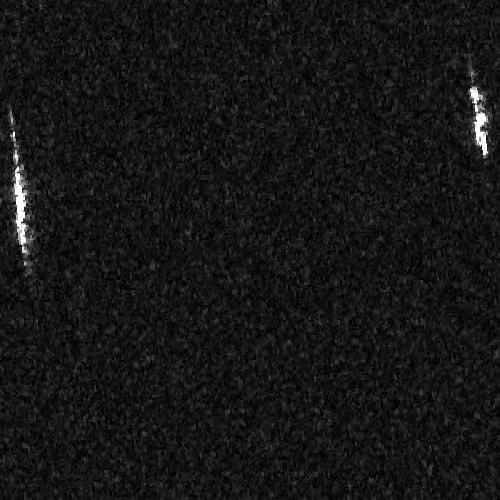ship: (9, 126, 30, 262), (469, 84, 490, 160)
